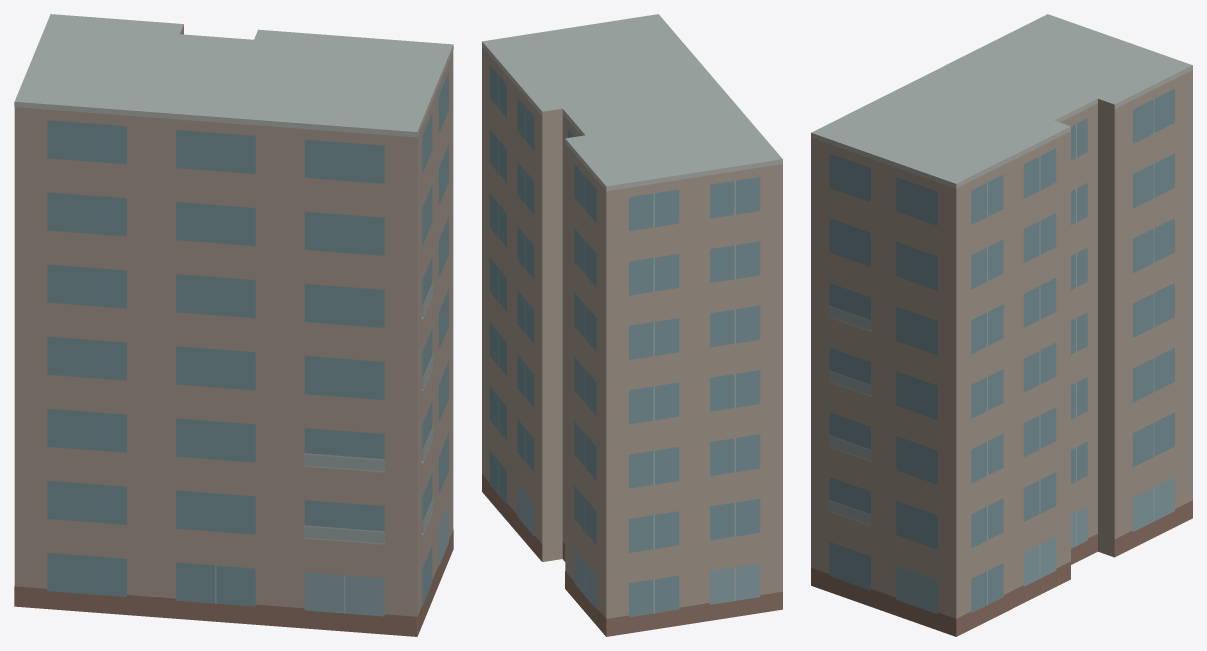
File: survey-upis-32619543.glb
3 views of the same model, side by side, from view 1: azimuth 30°, elevation 25°; view 2: azimuth 150°, elevation 25°; view 3: azimuth 270°, elevation 25° (orthographic). The views are drawn at different scales.
Parts seen in each view (by area): view 1: survey-upis-32619543.tmp; view 2: survey-upis-32619543.tmp; view 3: survey-upis-32619543.tmp.
Boxes of the visible parts, x1,y1,x2,y2 form: survey-upis-32619543.tmp: (14,14,453,636); survey-upis-32619543.tmp: (482,14,782,636); survey-upis-32619543.tmp: (811,14,1192,636).
Bounding box in the file's own units: 18.51 × 23 × 17.57.
